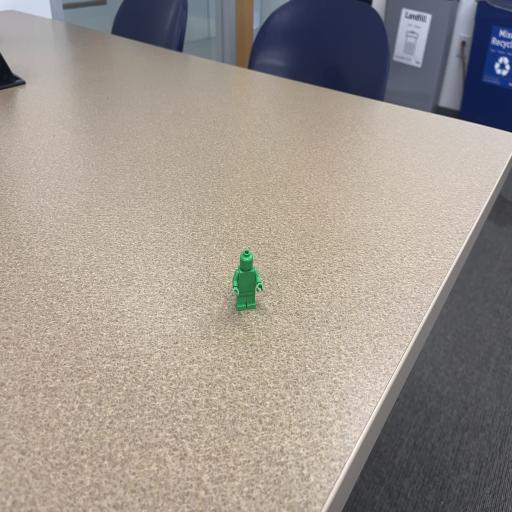Lego-Minifig: (232, 250, 263, 311)
